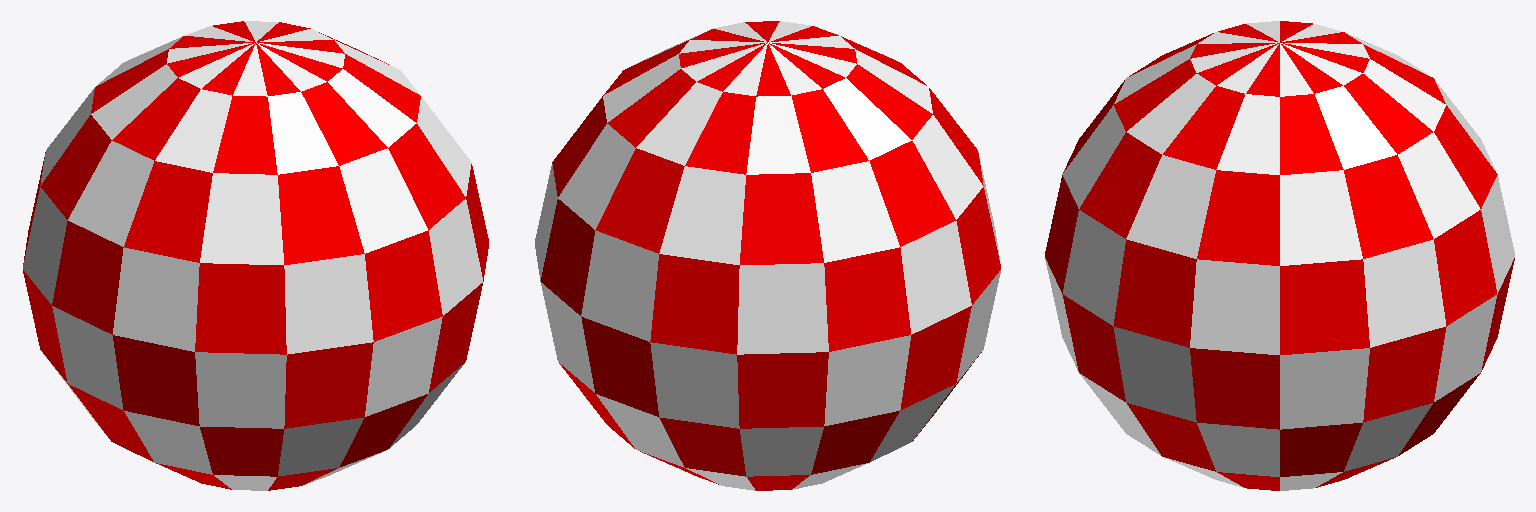
Rendered from ball-amiga.obj.
3 renders of one model, left to right at view 1: azimuth 30°, elevation 25°; view 2: azimuth 150°, elevation 25°; view 3: azimuth 270°, elevation 25°, orthographic.
Parts seen in each view (by area): view 1: Sphere_Sphere.002; view 2: Sphere_Sphere.002; view 3: Sphere_Sphere.002.
Part boxes in pixels (left/top/right/bottom): Sphere_Sphere.002: left=23, top=21, right=488, bottom=490; Sphere_Sphere.002: left=535, top=21, right=1000, bottom=490; Sphere_Sphere.002: left=1045, top=21, right=1514, bottom=490.
Bounding box in the file's own units: 2 × 2 × 2.